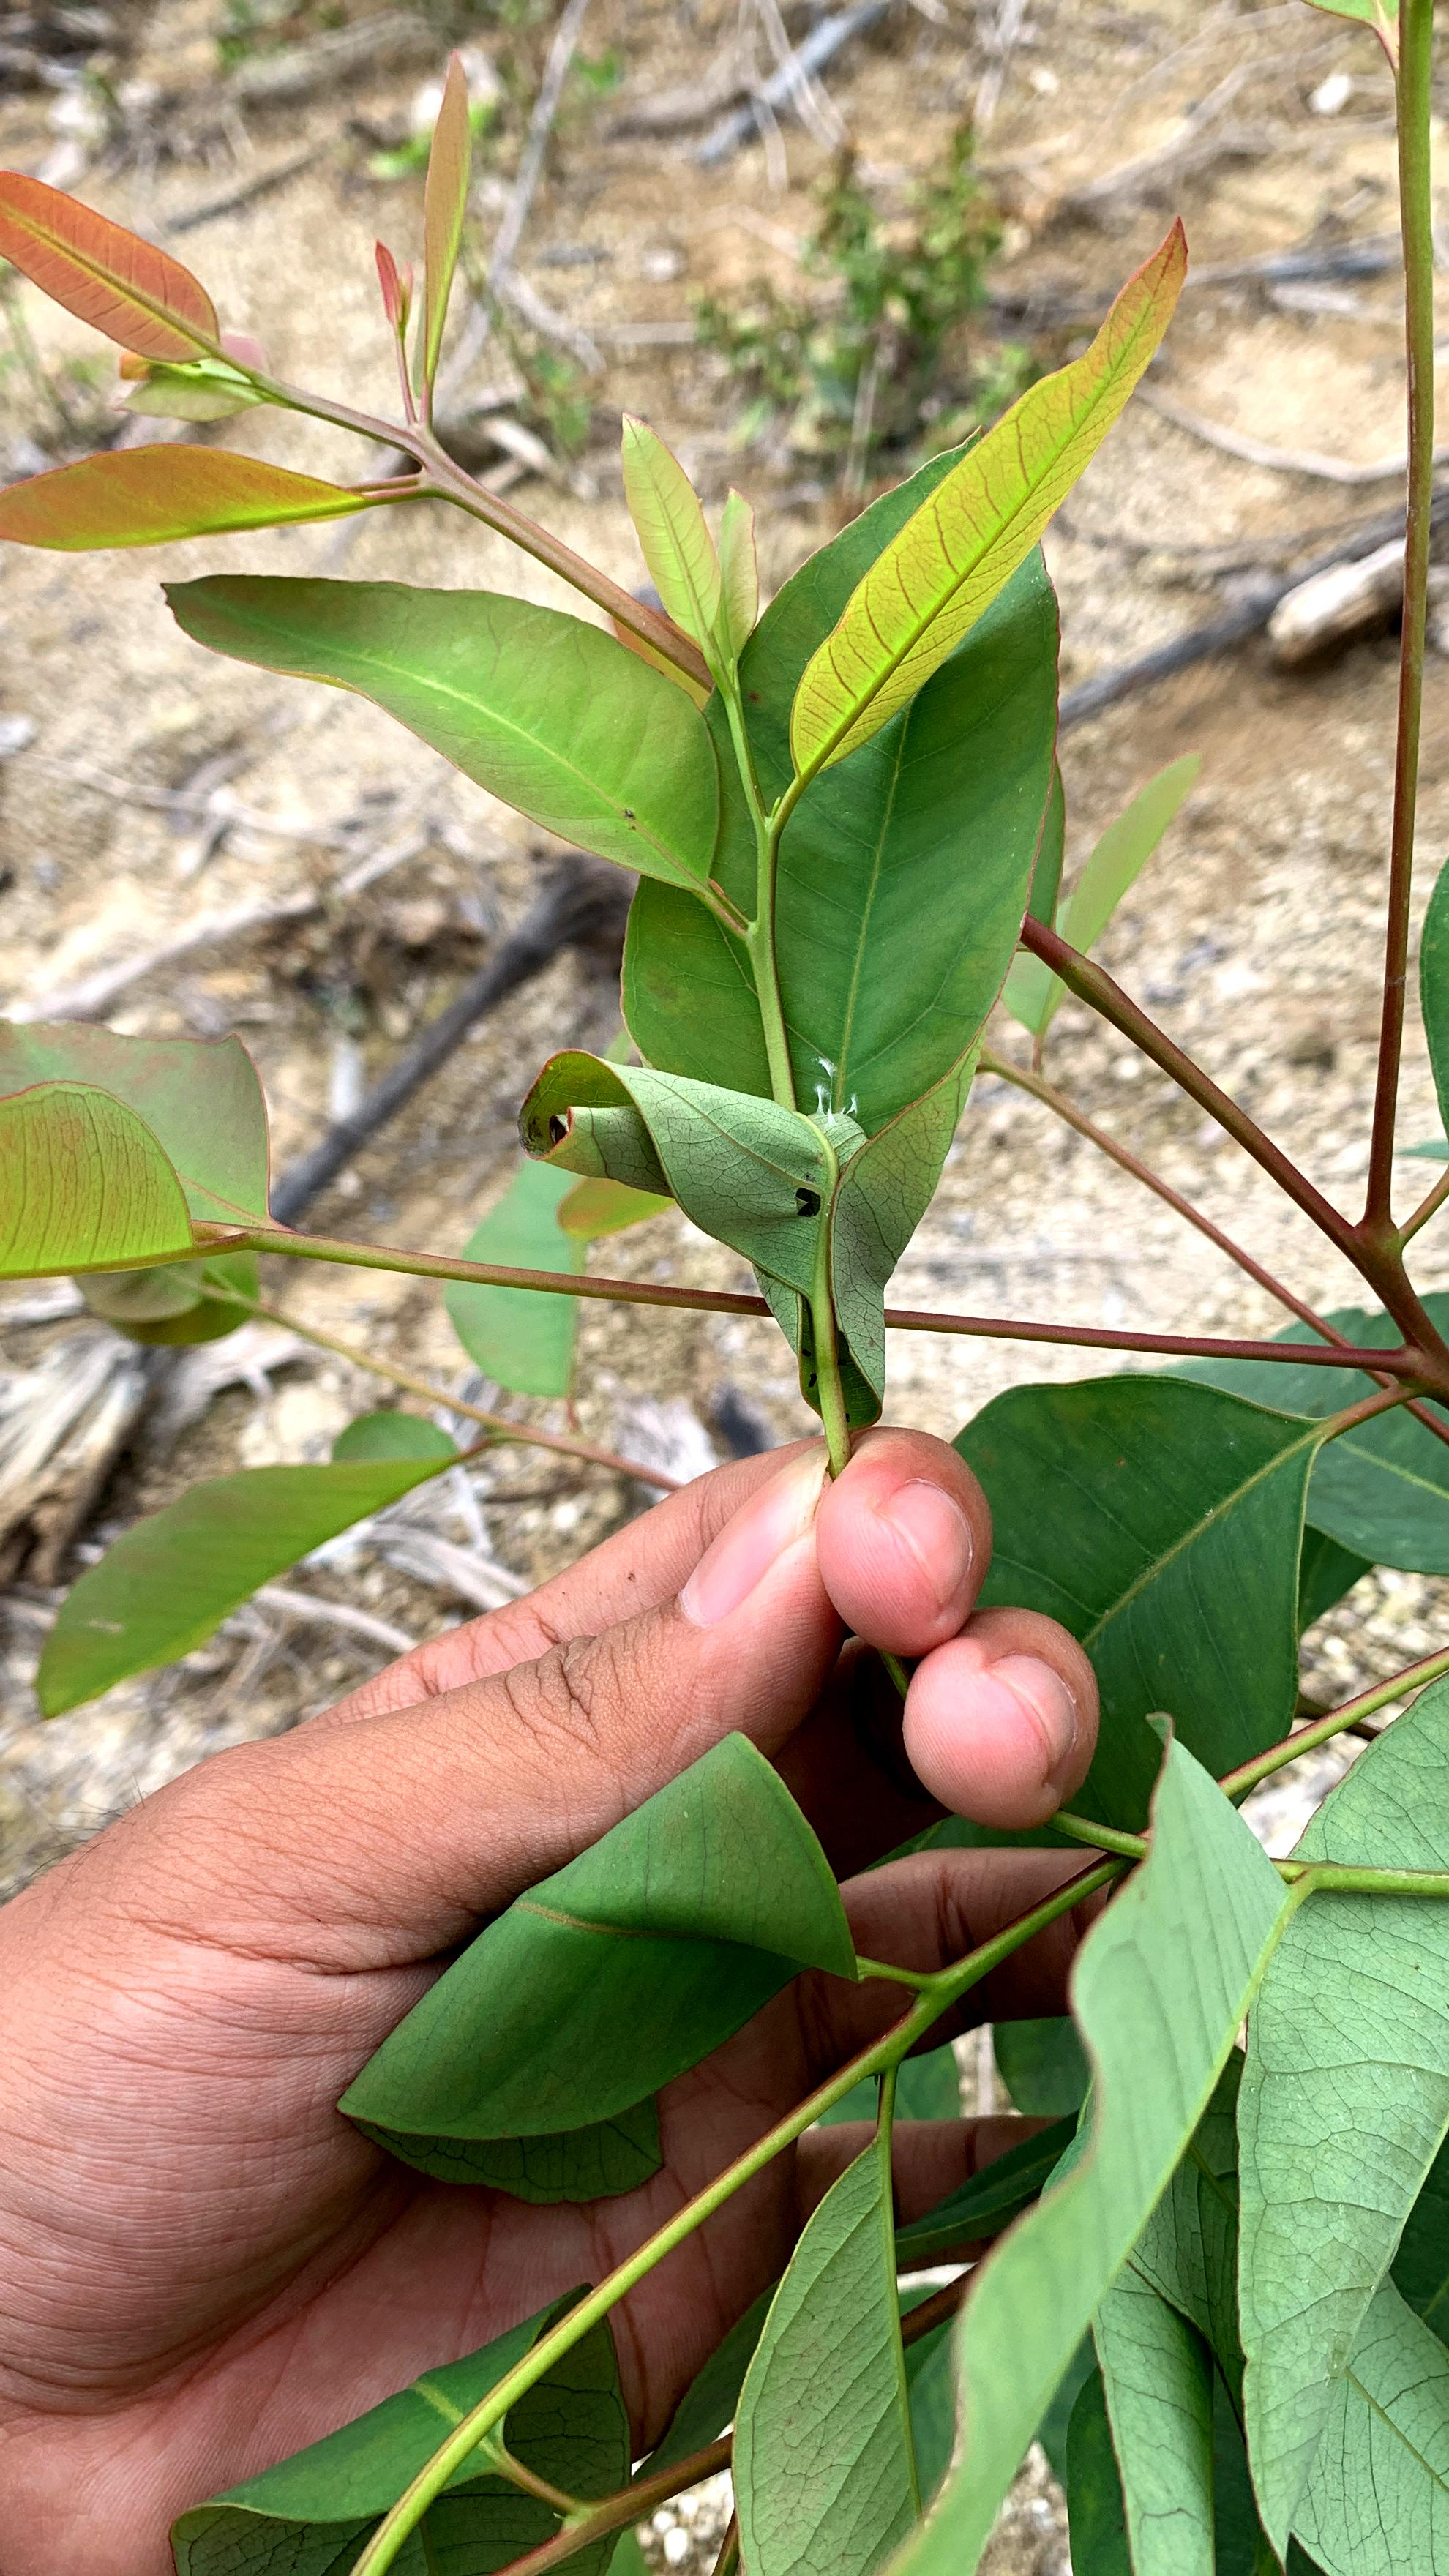Leaf Roller - Leaf: (471, 982, 968, 1313)
